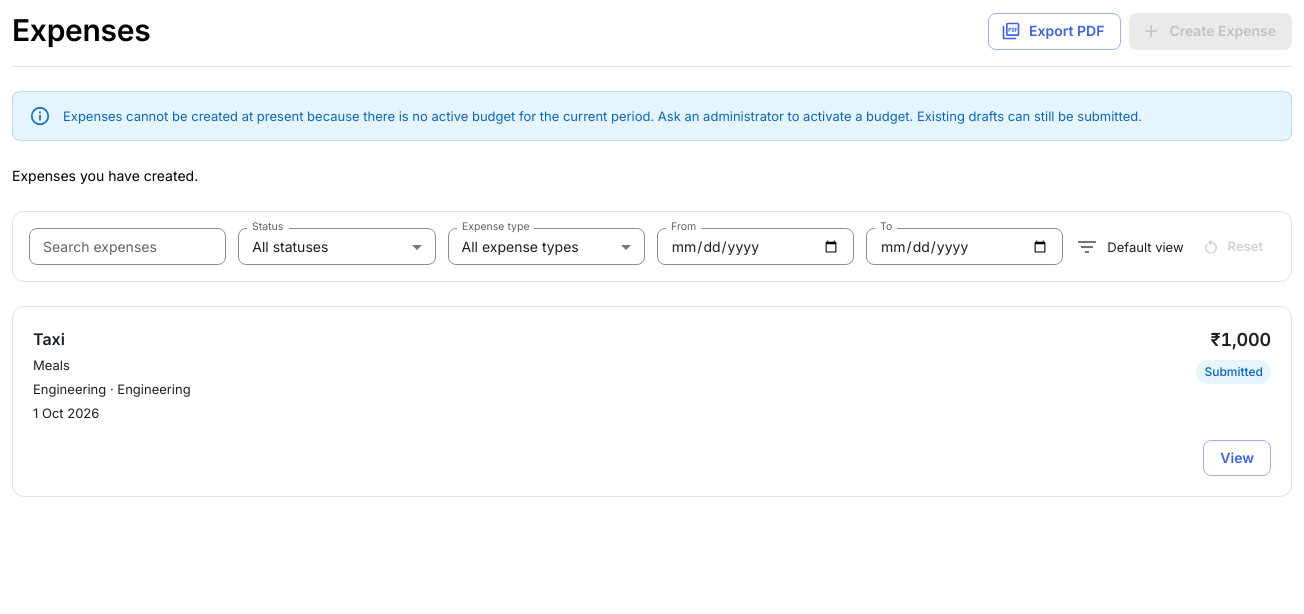
Test case: ExpensesPage PDF report › shows why the expenses could not be loaded and creates nothing
The image size is (1304, 614).
expect the heading "Taxi" is shown: met, box [33, 329, 65, 349]
Click the button "Export PDF" at {"x": 1055, "y": 31}, box [988, 13, 1121, 50]
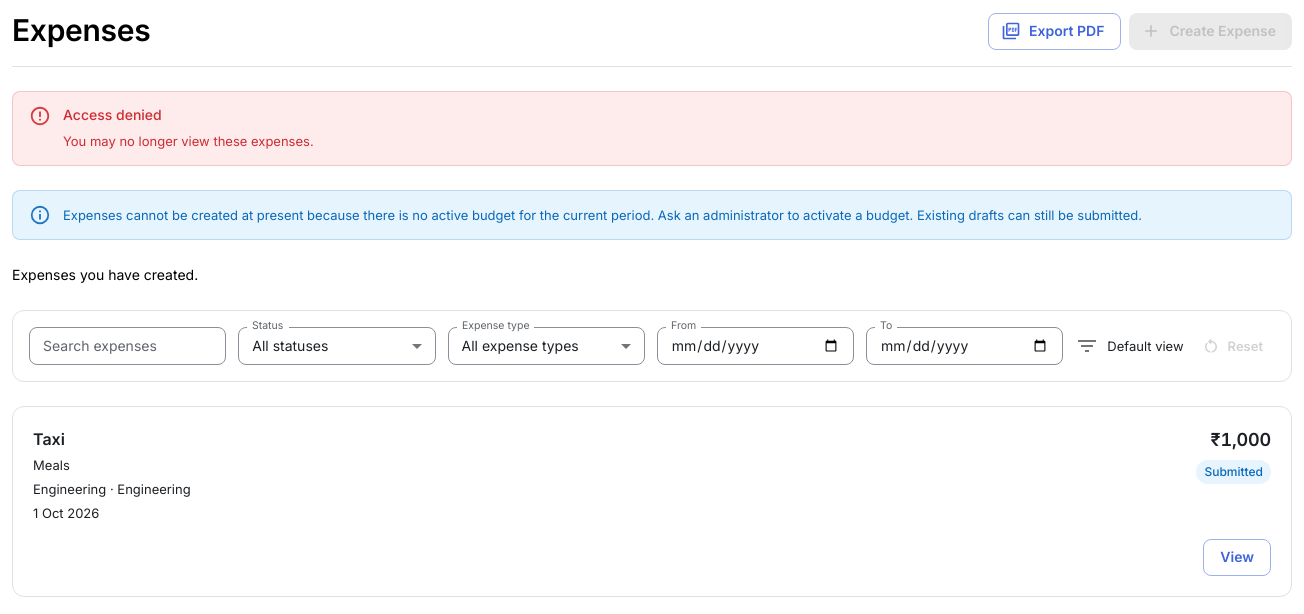
expect the text "You may no longer view these expenses." is shown: met, box [63, 133, 314, 149]
